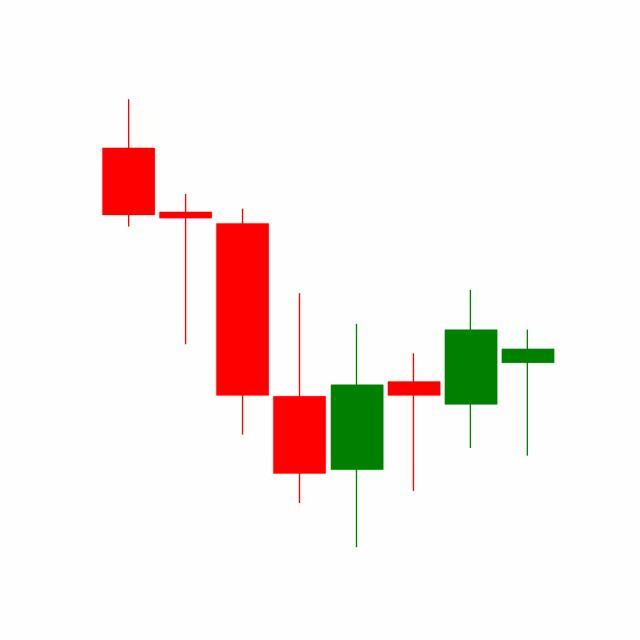Hikkake Pattern: (214, 204, 501, 549)
